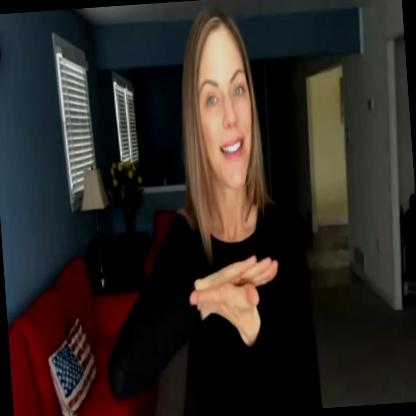NiceToMeetYou: (85, 0, 325, 416)
